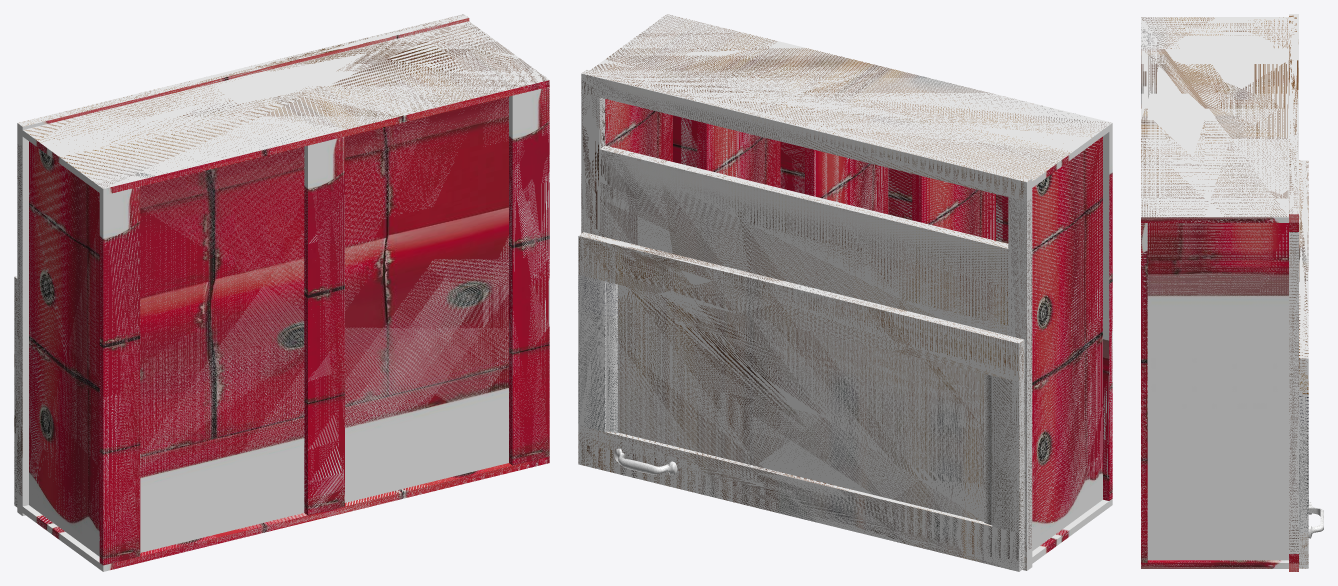
3 renders of one model, left to right at view 1: azimuth 30°, elevation 25°; view 2: azimuth 150°, elevation 25°; view 3: azimuth 270°, elevation 25°, orthographic. The views are drawn at different scales.
Parts seen in each view (by area): view 1: mesh6_mesh6-geometry, mesh3_mesh3-geometry, mesh7_mesh7-geometry, mesh2_mesh2-geometry, mesh8_mesh8-geometry, mesh10_mesh10-geometry, mesh4_mesh4-geometry; view 2: mesh18_mesh18-geometry, mesh11_mesh11-geometry, mesh7_mesh7-geometry, mesh2_mesh2-geometry, mesh16_mesh16-geometry, mesh14_mesh14-geometry, mesh12_mesh12-geometry, mesh10_mesh10-geometry, mesh4_mesh4-geometry, mesh13_mesh13-geometry, mesh15_mesh15-geometry, mesh5_mesh5-geometry (+3 smaller); view 3: mesh1_mesh1-geometry, mesh7_mesh7-geometry, mesh4_mesh4-geometry, mesh3_mesh3-geometry, mesh16_mesh16-geometry, mesh10_mesh10-geometry, mesh15_mesh15-geometry, mesh8_mesh8-geometry, mesh14_mesh14-geometry, mesh19_mesh19-geometry.
Part boxes in pixels (left/top/right/bottom): mesh6_mesh6-geometry: left=140, top=96, right=508, bottom=552; mesh3_mesh3-geometry: left=99, top=86, right=549, bottom=565; mesh7_mesh7-geometry: left=22, top=21, right=549, bottom=195; mesh2_mesh2-geometry: left=29, top=141, right=99, bottom=556; mesh8_mesh8-geometry: left=22, top=456, right=549, bottom=571; mesh10_mesh10-geometry: left=17, top=14, right=469, bottom=146; mesh4_mesh4-geometry: left=17, top=142, right=28, bottom=496; mesh18_mesh18-geometry: left=618, top=284, right=983, bottom=521; mesh11_mesh11-geometry: left=599, top=145, right=1008, bottom=335; mesh7_mesh7-geometry: left=590, top=14, right=1112, bottom=187; mesh2_mesh2-geometry: left=605, top=99, right=1102, bottom=550; mesh16_mesh16-geometry: left=578, top=232, right=1024, bottom=382; mesh14_mesh14-geometry: left=578, top=425, right=1024, bottom=571; mesh12_mesh12-geometry: left=697, top=121, right=995, bottom=240; mesh10_mesh10-geometry: left=581, top=69, right=1032, bottom=201; mesh4_mesh4-geometry: left=581, top=93, right=1032, bottom=551; mesh13_mesh13-geometry: left=984, top=374, right=1024, bottom=532; mesh15_mesh15-geometry: left=578, top=275, right=617, bottom=432; mesh5_mesh5-geometry: left=673, top=115, right=1008, bottom=243; mesh1_mesh1-geometry: left=1147, top=223, right=1288, bottom=560; mesh7_mesh7-geometry: left=1141, top=17, right=1288, bottom=222; mesh4_mesh4-geometry: left=1289, top=232, right=1298, bottom=553; mesh3_mesh3-geometry: left=1141, top=223, right=1147, bottom=562; mesh16_mesh16-geometry: left=1299, top=160, right=1308, bottom=394; mesh10_mesh10-geometry: left=1289, top=14, right=1298, bottom=231; mesh15_mesh15-geometry: left=1299, top=394, right=1308, bottom=532; mesh8_mesh8-geometry: left=1141, top=560, right=1288, bottom=568; mesh14_mesh14-geometry: left=1299, top=533, right=1308, bottom=568; mesh19_mesh19-geometry: left=1308, top=502, right=1323, bottom=538.
Bounding box in the file's own units: 0.7365 × 0.6137 × 0.2845.
